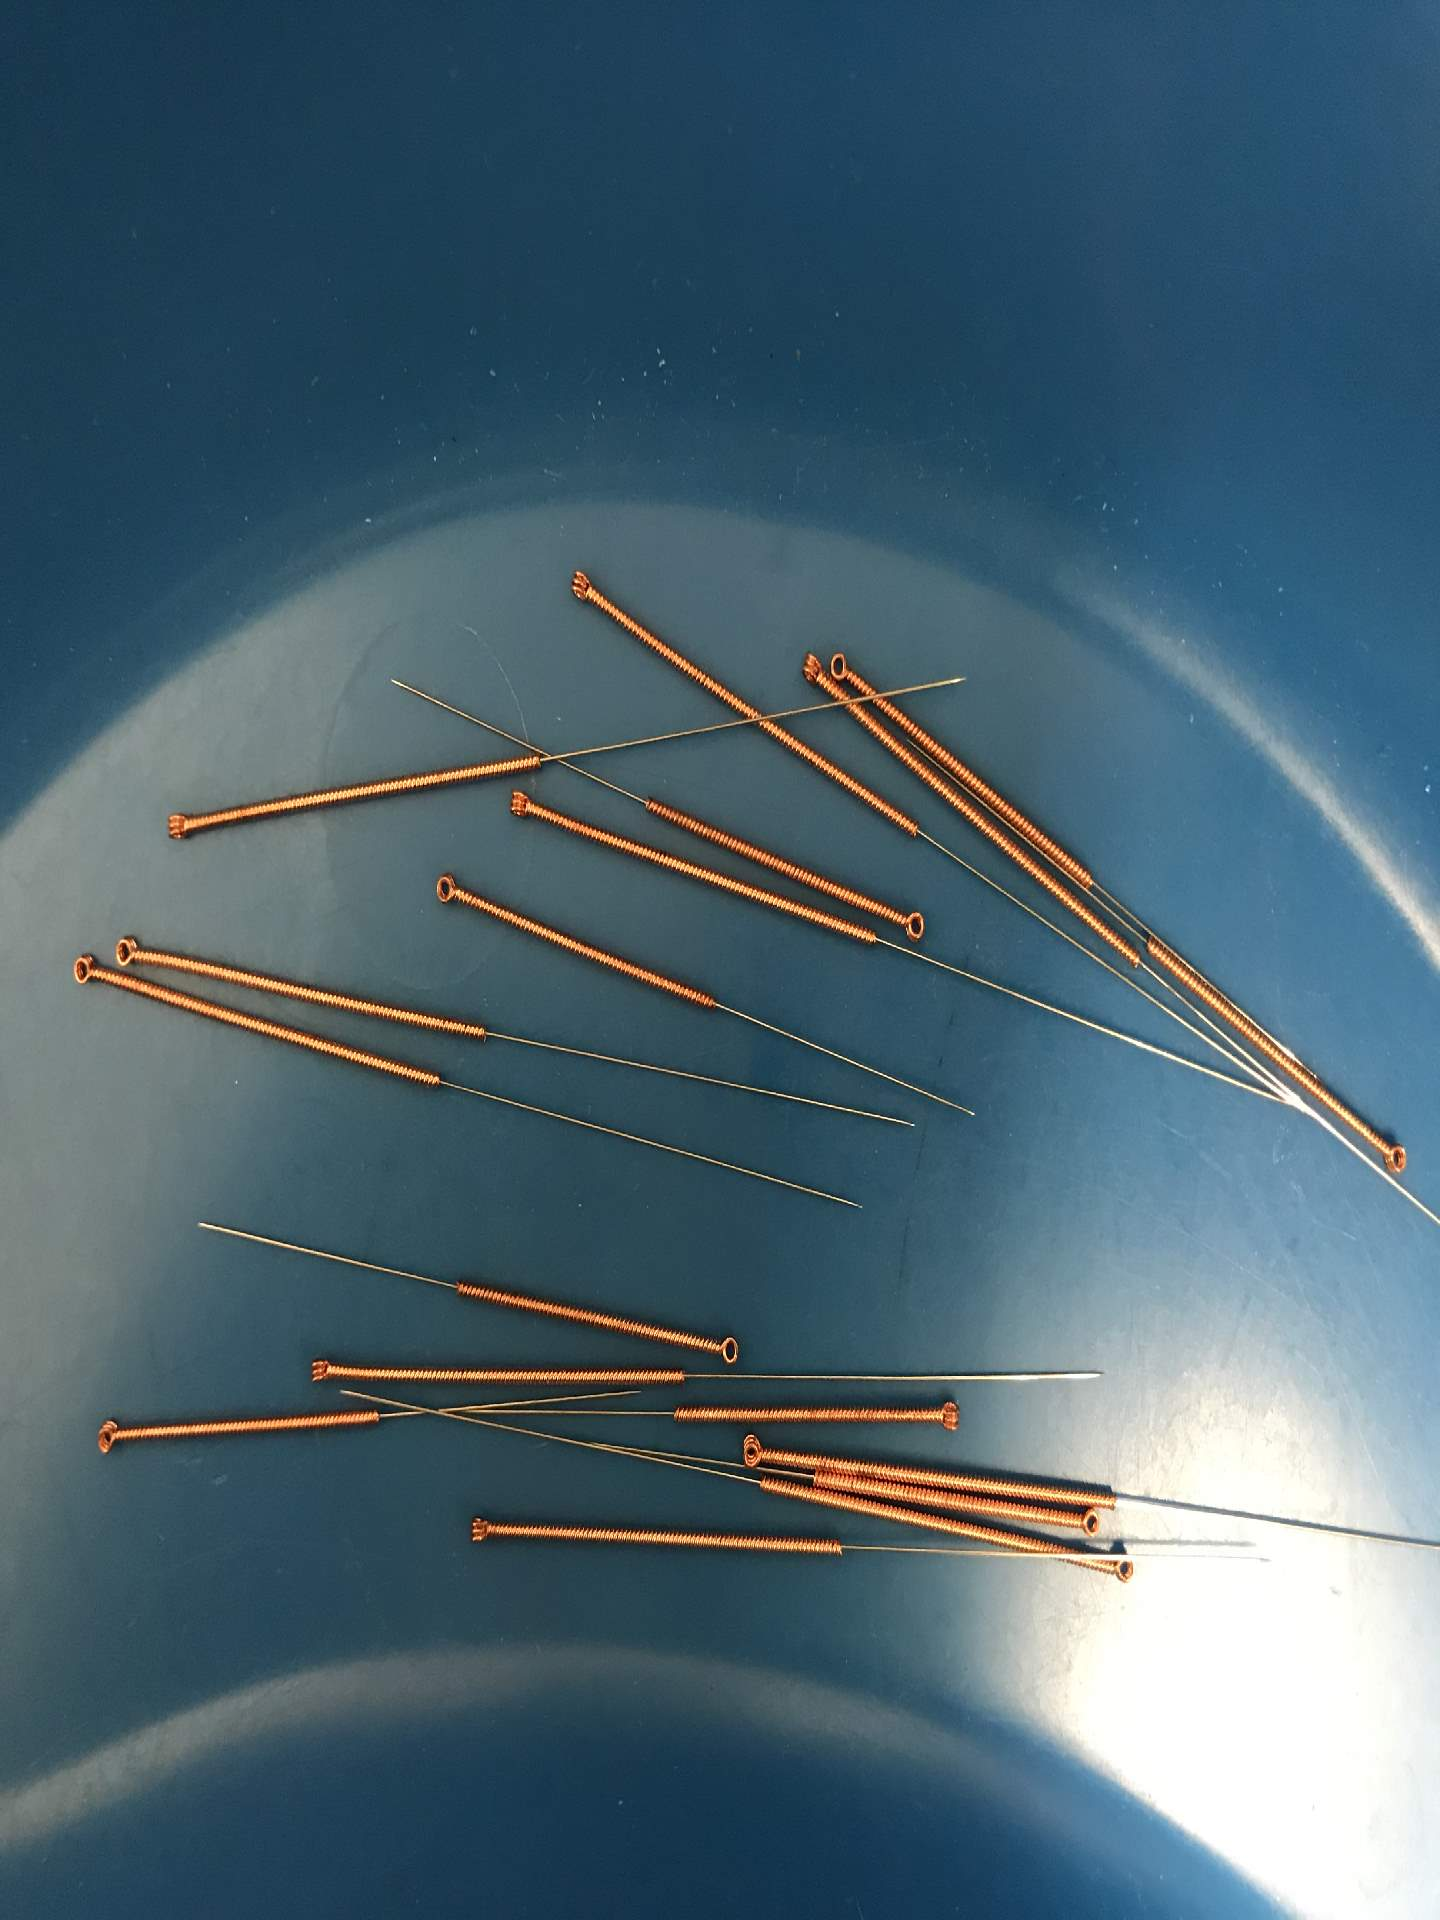needle: (85, 1411, 132, 1463), (699, 1324, 749, 1373), (104, 927, 153, 975), (1369, 1129, 1413, 1182), (889, 900, 935, 949), (560, 561, 604, 612), (156, 804, 201, 851), (298, 1347, 343, 1394), (458, 1506, 502, 1554), (926, 1392, 970, 1439), (64, 946, 106, 995), (427, 866, 467, 913), (498, 780, 538, 827), (824, 639, 864, 688), (793, 643, 830, 692), (1101, 1547, 1141, 1590), (734, 1429, 771, 1473), (1069, 1498, 1106, 1542)
